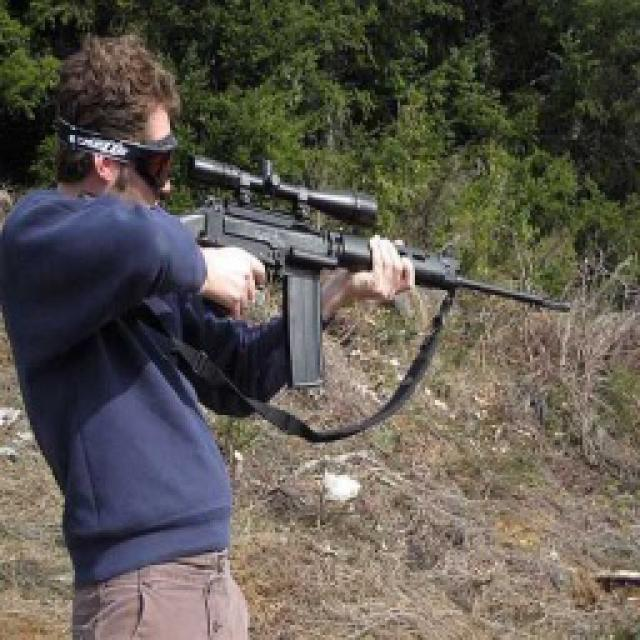long weapon: (185, 147, 581, 361)
